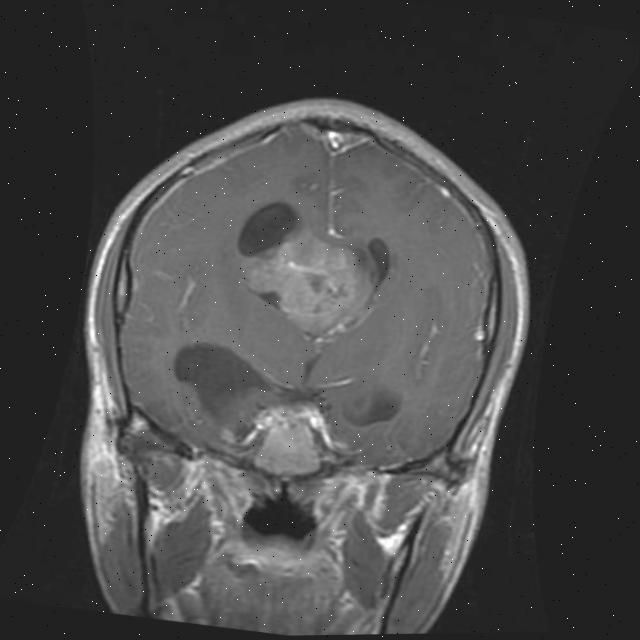Glioma: (226, 219, 386, 350)
Pituitary: (251, 416, 329, 484)
